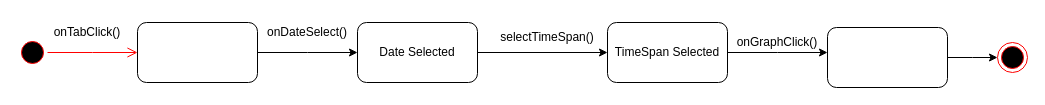
This 1045x105 diagram has some shape labels left out. The shapes that lost their labels are listed below. From the top down, each one's centre as x and y in pixels, then its label:
[197,52]: No date selected
[887,57]: TimeSpan Graphed
